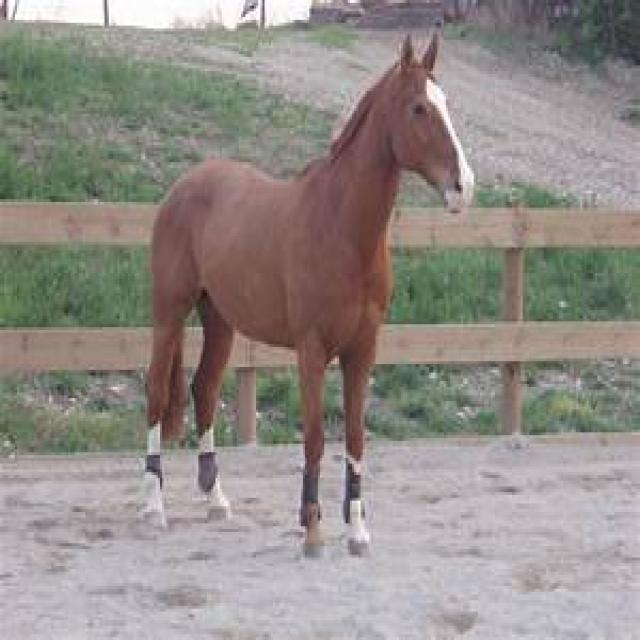horse: (140, 35, 474, 552)
